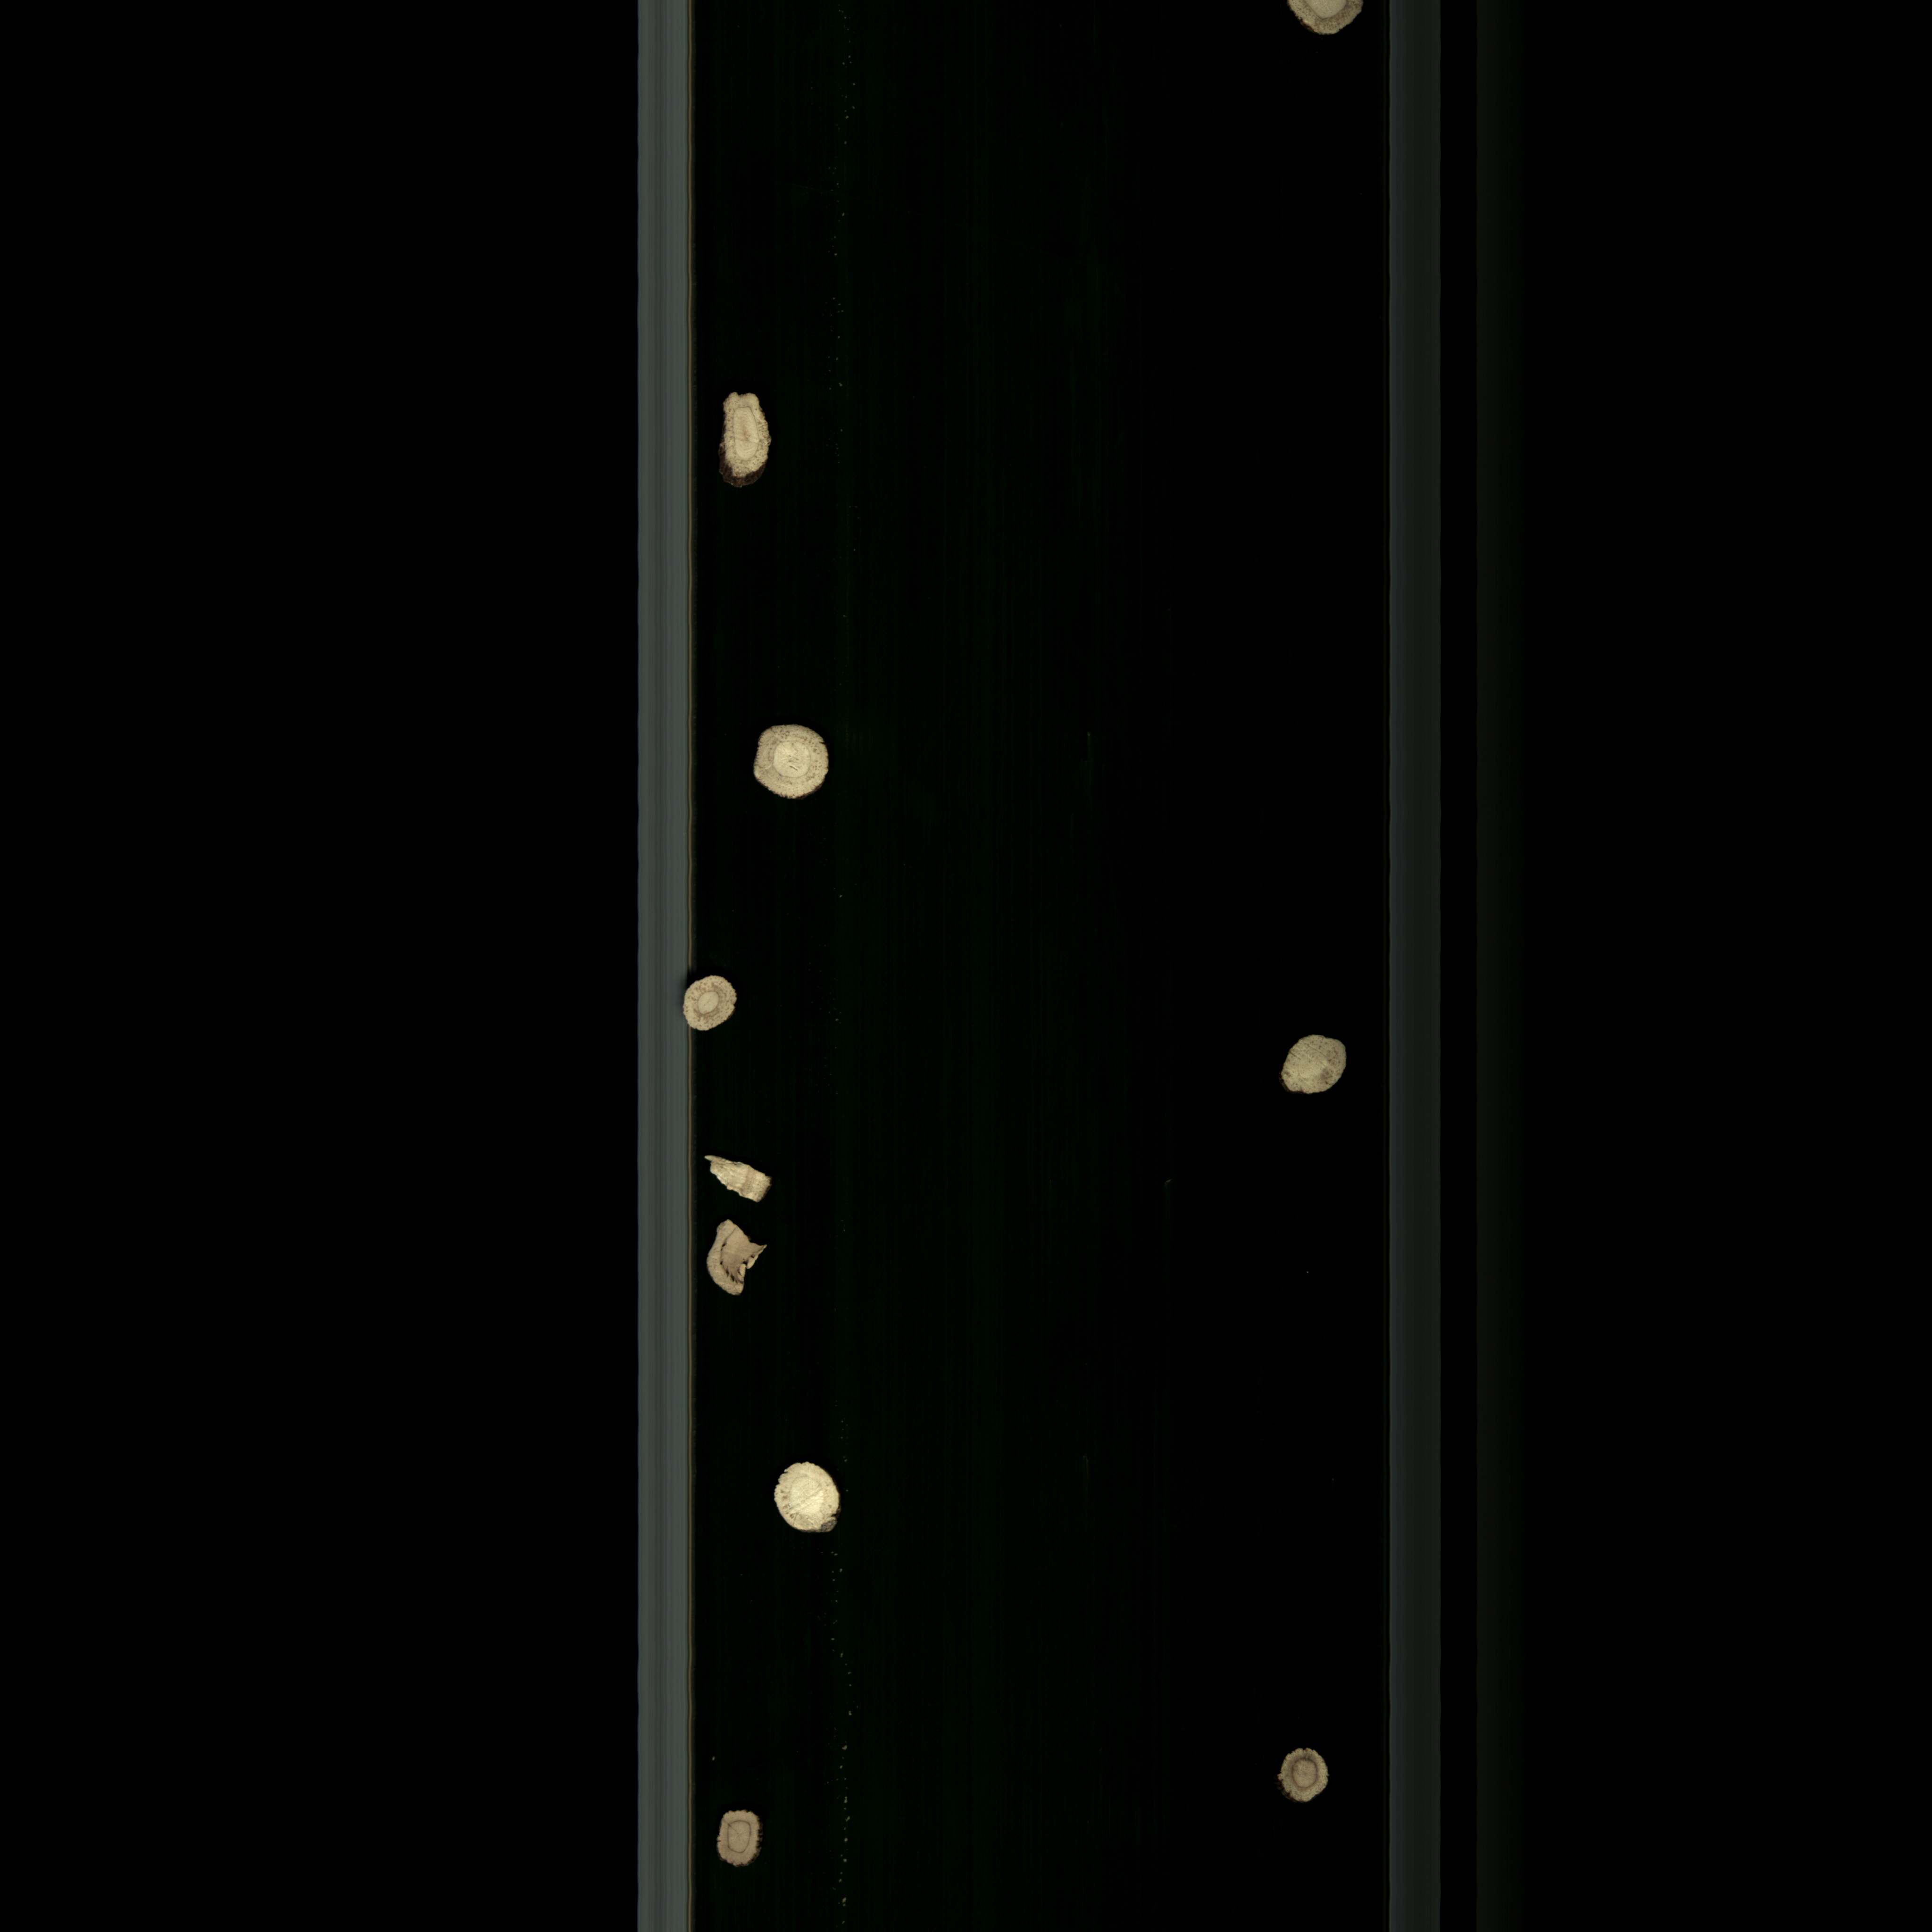distortion: (713, 386, 786, 501), (1263, 1023, 1362, 1106), (711, 1796, 773, 1882)
dreg: (701, 1146, 782, 1210)
moldy: (704, 1212, 777, 1311), (1267, 1741, 1346, 1817), (681, 968, 745, 1040)
